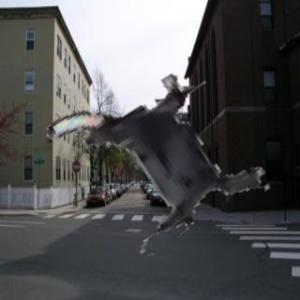drone: (56, 51, 270, 265)
